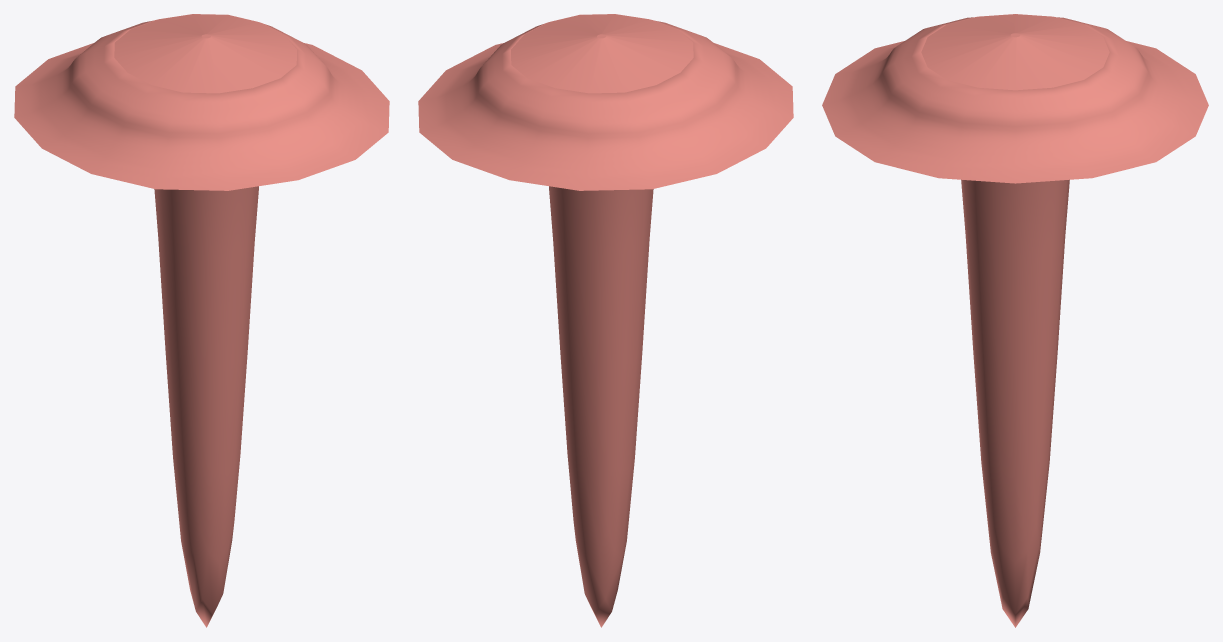
Rendered from LittleWound.fbx.
The picture shows the model from 3 angles, left to right: view 1: azimuth 30°, elevation 25°; view 2: azimuth 150°, elevation 25°; view 3: azimuth 270°, elevation 25°; orthographic projection.
Visible parts, largest first — view 1: Wound, Wound.003; view 2: Wound, Wound.003; view 3: Wound, Wound.003.
Part boxes in pixels (x1=…): Wound: x1=14, y1=14, x2=389, y2=627; Wound.003: x1=114, y1=14, x2=296, y2=93; Wound: x1=418, y1=14, x2=793, y2=627; Wound.003: x1=511, y1=14, x2=693, y2=93; Wound: x1=822, y1=14, x2=1208, y2=627; Wound.003: x1=921, y1=14, x2=1109, y2=90.
Bounding box in the file's own units: 18.31 × 32.32 × 19.12.
